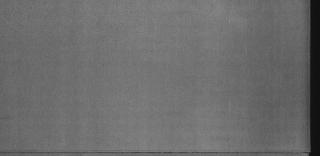welding line: (2, 151, 318, 155)
